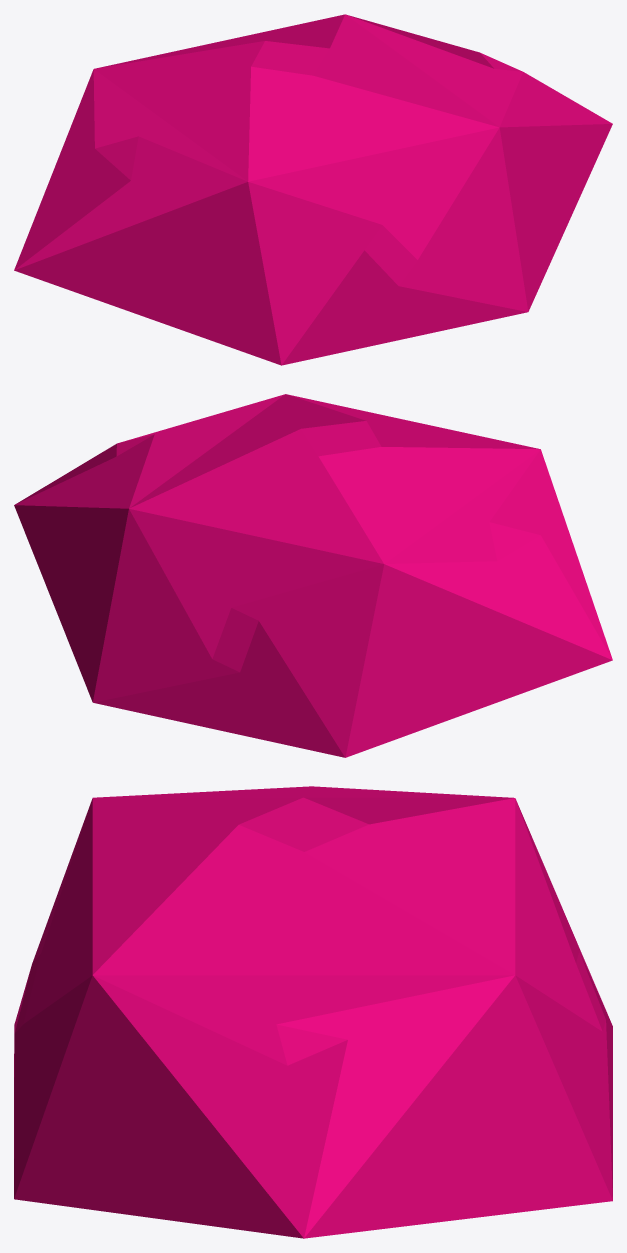
The model's file is simple1.fbx.
3 renders of one model, top to bottom at view 1: azimuth 30°, elevation 25°; view 2: azimuth 150°, elevation 25°; view 3: azimuth 270°, elevation 25°, orthographic. The views are drawn at different scales.
Parts seen in each view (by area): view 1: Cube; view 2: Cube; view 3: Cube.
Boxes of the visible parts, x1,y1,x2,y2 form: Cube: (14, 14, 612, 365); Cube: (14, 394, 612, 757); Cube: (14, 786, 612, 1238).
Bounding box in the file's own units: 133 × 45.28 × 85.02.
